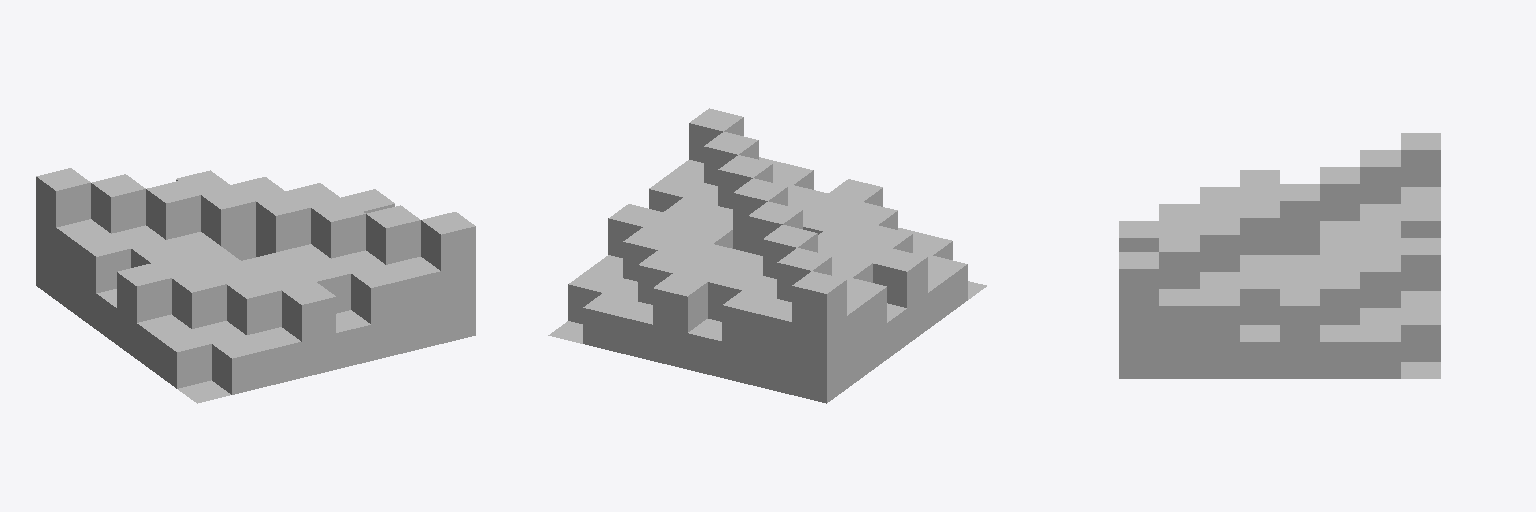
The picture shows the model from 3 angles: view 1: azimuth 30°, elevation 25°; view 2: azimuth 150°, elevation 25°; view 3: azimuth 270°, elevation 25°; orthographic projection.
Parts seen in each view (by area): view 1: Object(8,8)[length_3], Object(1,1)[length_3], Object(6,8)[length_2], Object(4,8)[length_2], Object(1,5)[length_2], Object(7,8)[length_2], Object(1,3)[length_2], Object(4,4)[length_3], Object(5,5)[length_3], Object(2,8)[length_1], Object(1,7)[length_1], Object(2,6)[length_2] (+27 smaller); view 2: Object(1,1)[length_3], Object(5,1)[length_2], Object(3,1)[length_2], Object(1,5)[length_2], Object(2,1)[length_2], Object(1,3)[length_2], Object(7,1)[length_1], Object(5,5)[length_3], Object(6,1)[length_1], Object(4,1)[length_1], Object(1,2)[length_2], Object(6,6)[length_3] (+28 smaller); view 3: Object(8,8)[length_3], Object(8,7)[length_2], Object(8,4)[length_2], Object(8,6)[length_2], Object(4,4)[length_3], Object(2,2)[length_3], Object(7,7)[length_3], Object(8,2)[length_1], Object(6,2)[length_2], Object(1,1)[length_3], Object(3,3)[length_3], Object(5,5)[length_3] (+28 smaller).
Boxes of the visible parts, x1=… form: Object(8,8)[length_3]: x1=421, y1=212, x2=475, y2=343; Object(1,1)[length_3]: x1=36, y1=168, x2=90, y2=299; Object(6,8)[length_2]: x1=351, y1=265, x2=405, y2=360; Object(4,8)[length_2]: x1=282, y1=282, x2=335, y2=377; Object(1,5)[length_2]: x1=117, y1=263, x2=171, y2=358; Object(7,8)[length_2]: x1=387, y1=257, x2=440, y2=352; Object(1,3)[length_2]: x1=76, y1=234, x2=130, y2=328; Object(4,4)[length_3]: x1=201, y1=187, x2=255, y2=260; Object(5,5)[length_3]: x1=256, y1=193, x2=310, y2=256; Object(2,8)[length_1]: x1=212, y1=335, x2=266, y2=394; Object(1,7)[length_1]: x1=157, y1=329, x2=211, y2=388; Object(2,6)[length_2]: x1=172, y1=270, x2=226, y2=328; Object(1,1)[length_3]: x1=792, y1=271, x2=846, y2=403; Object(5,1)[length_2]: x1=653, y1=274, x2=707, y2=369; Object(3,1)[length_2]: x1=722, y1=290, x2=776, y2=385; Object(1,5)[length_2]: x1=873, y1=249, x2=927, y2=344; Object(2,1)[length_2]: x1=757, y1=299, x2=791, y2=394; Object(1,3)[length_2]: x1=847, y1=278, x2=886, y2=373; Object(7,1)[length_1]: x1=583, y1=293, x2=637, y2=352; Object(5,5)[length_3]: x1=733, y1=178, x2=787, y2=251; Object(6,1)[length_1]: x1=618, y1=302, x2=652, y2=360; Object(4,1)[length_1]: x1=688, y1=319, x2=721, y2=377; Object(1,2)[length_2]: x1=847, y1=296, x2=866, y2=388; Object(6,6)[length_3]: x1=718, y1=155, x2=772, y2=208; Object(8,8)[length_3]: x1=1119, y1=252, x2=1158, y2=378; Object(8,7)[length_2]: x1=1159, y1=289, x2=1199, y2=378; Object(8,4)[length_2]: x1=1280, y1=289, x2=1319, y2=378; Object(8,6)[length_2]: x1=1200, y1=289, x2=1239, y2=378; Object(4,4)[length_3]: x1=1280, y1=184, x2=1319, y2=254; Object(2,2)[length_3]: x1=1360, y1=150, x2=1400, y2=203; Object(7,7)[length_3]: x1=1159, y1=235, x2=1199, y2=288; Object(8,2)[length_1]: x1=1360, y1=325, x2=1400, y2=378; Object(6,2)[length_2]: x1=1360, y1=255, x2=1400, y2=307; Object(1,1)[length_3]: x1=1401, y1=133, x2=1440, y2=186; Object(3,3)[length_3]: x1=1320, y1=167, x2=1359, y2=220; Object(5,5)[length_3]: x1=1240, y1=201, x2=1279, y2=254.
Size of the model in its own units: 8 by 3 by 8.